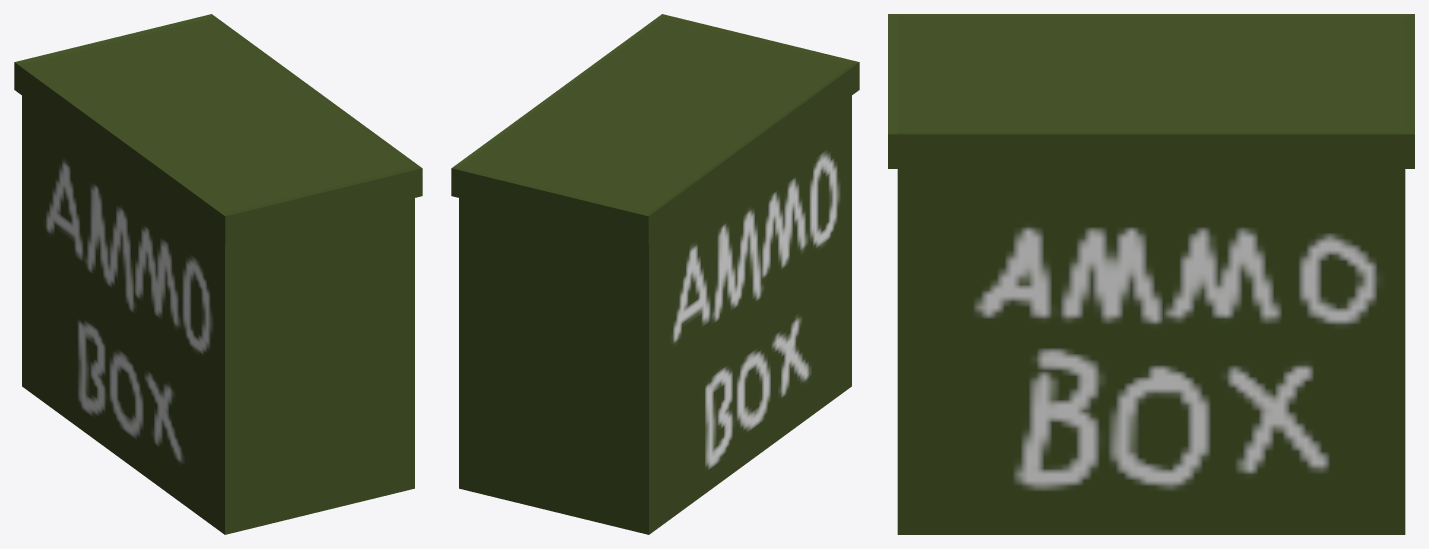
The model's file is AmmoBox.fbx.
3 renders of one model, left to right at view 1: azimuth 30°, elevation 25°; view 2: azimuth 150°, elevation 25°; view 3: azimuth 270°, elevation 25°, orthographic. The views are drawn at different scales.
Visible parts, largest first — view 1: Cube; view 2: Cube; view 3: Cube.
Boxes of the visible parts, left/top/right/bottom form: Cube: left=14, top=14, right=422, bottom=534; Cube: left=451, top=14, right=859, bottom=534; Cube: left=888, top=14, right=1414, bottom=534.
Size of the model in its own units: 97.75 by 153 by 181.
